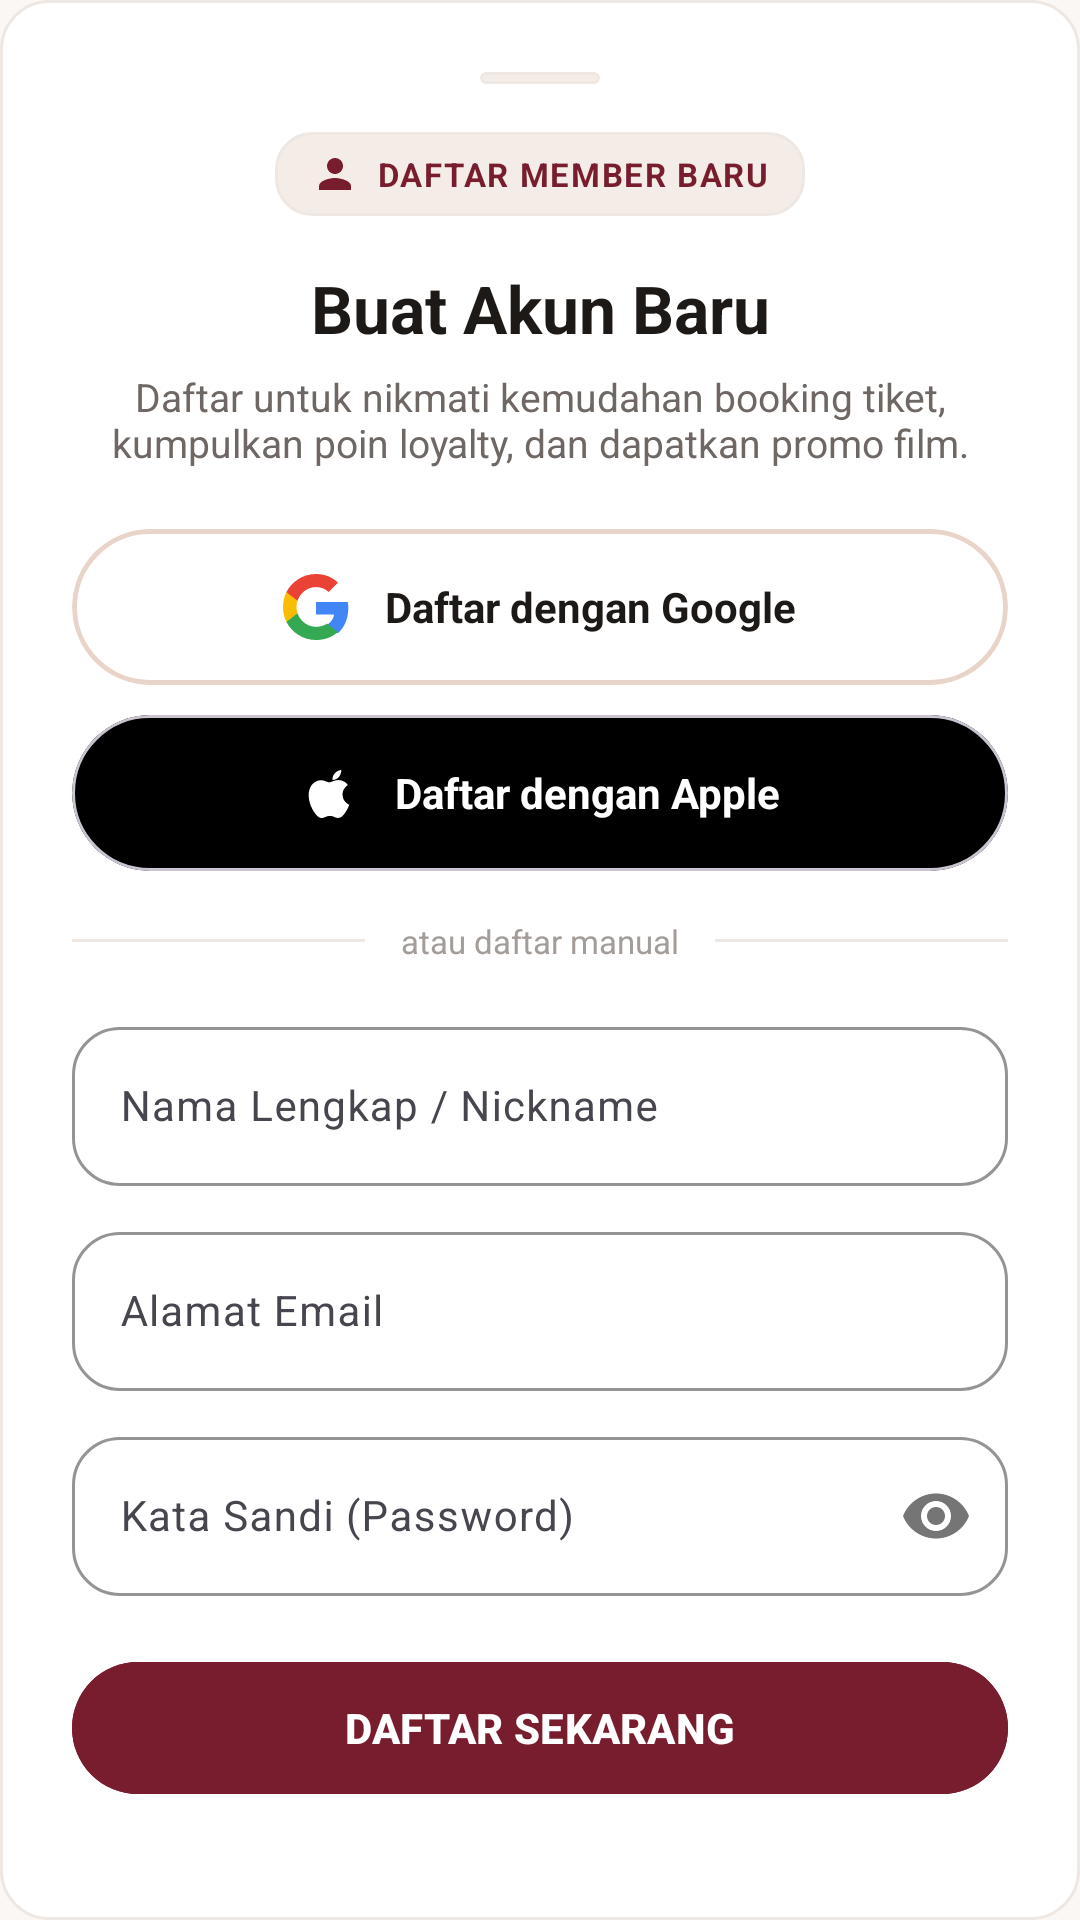

Named icons in this screenshot (1080 x 1920) and their bounding boxes, (x1, y1, x2, y2):
profile: (319, 158, 351, 190)
